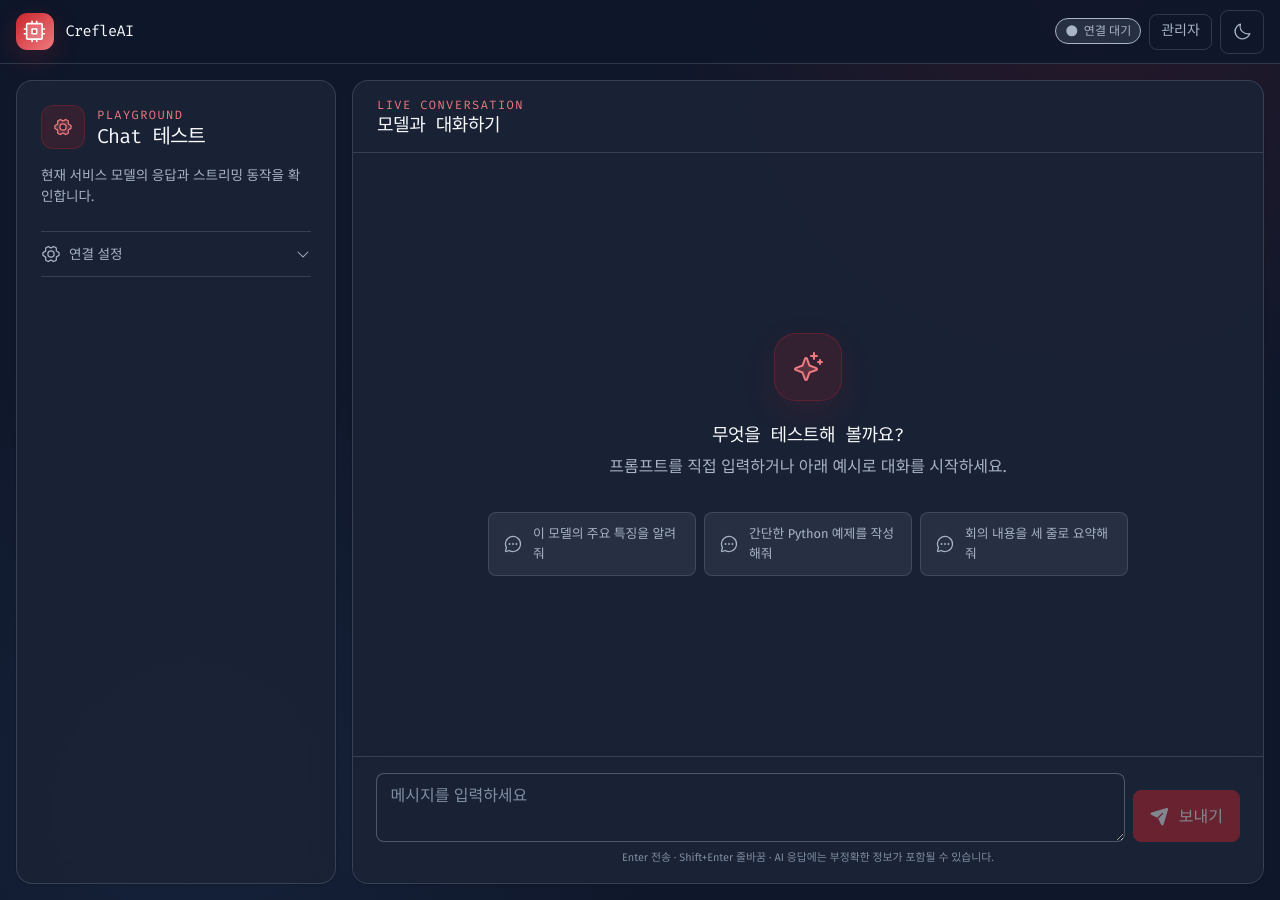
Test: Harmony 형식 응답의 추론 과정을 분리하고 종료 토큰을 숨긴다
In the text box labelled "메시지": coordinates (750, 808) [376,773,1125,842], type "안녕"
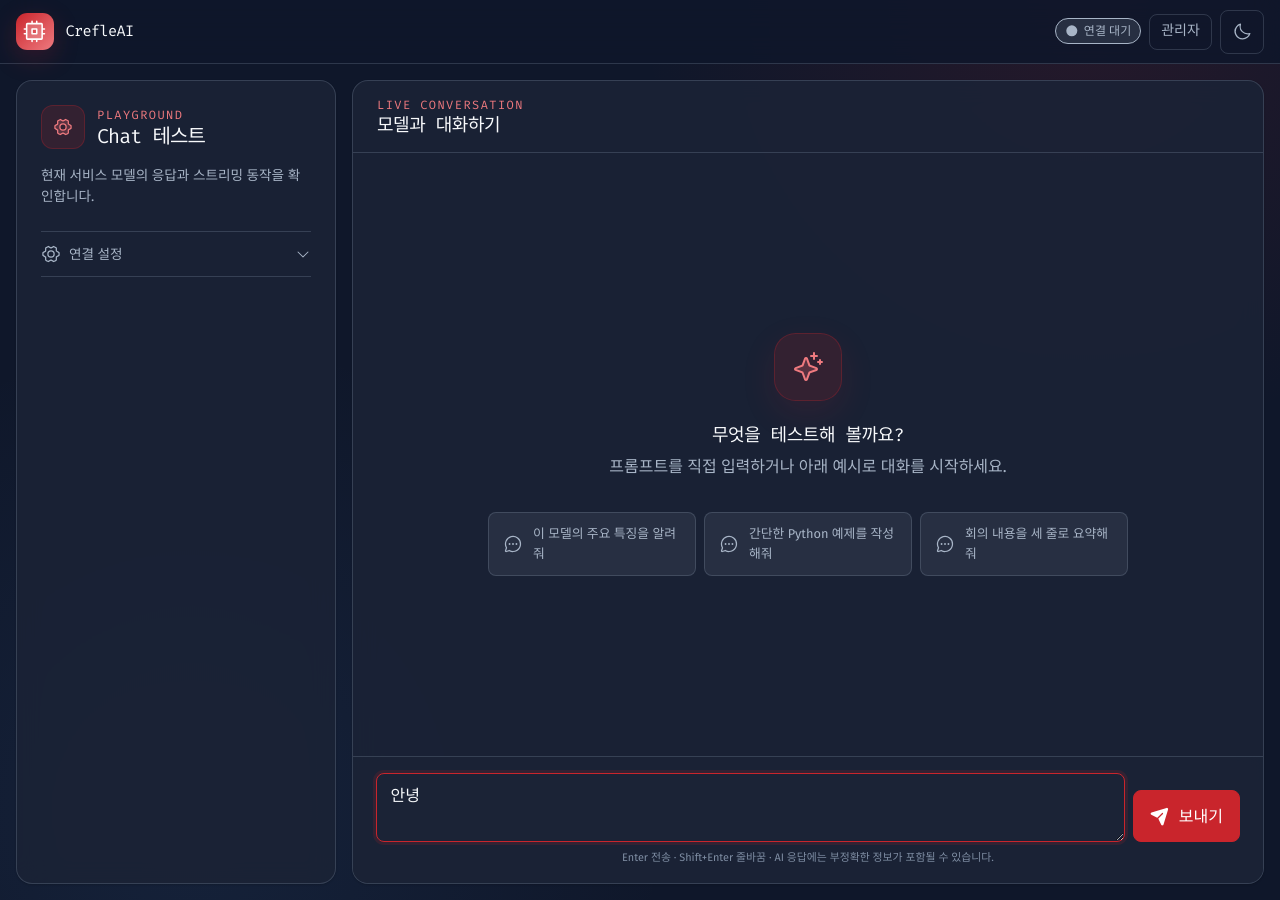
Click the button "보내기": coordinates (1186, 816) [1133,790,1240,842]
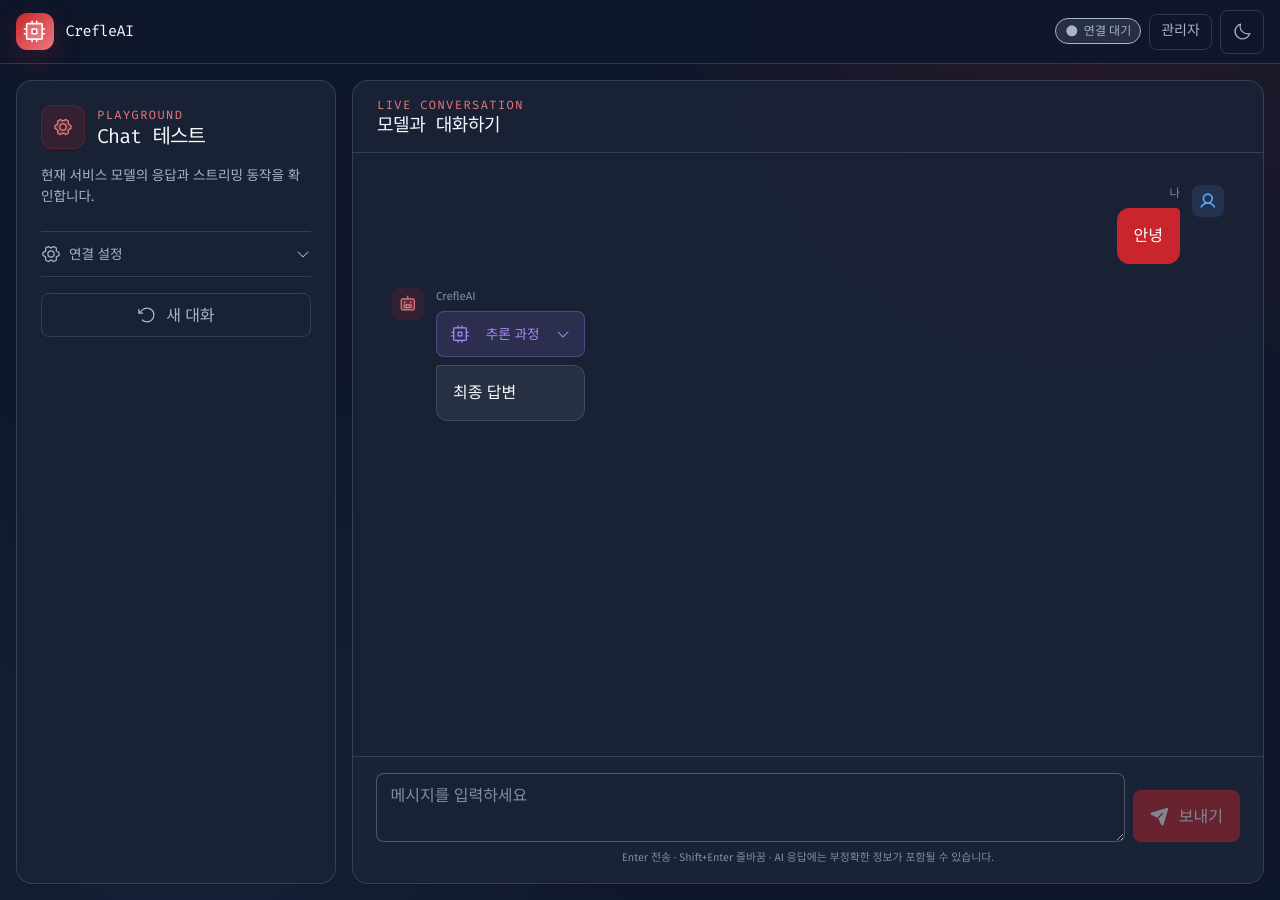
Expected: the text "최종 답변" is shown, [453,383,516,402]
